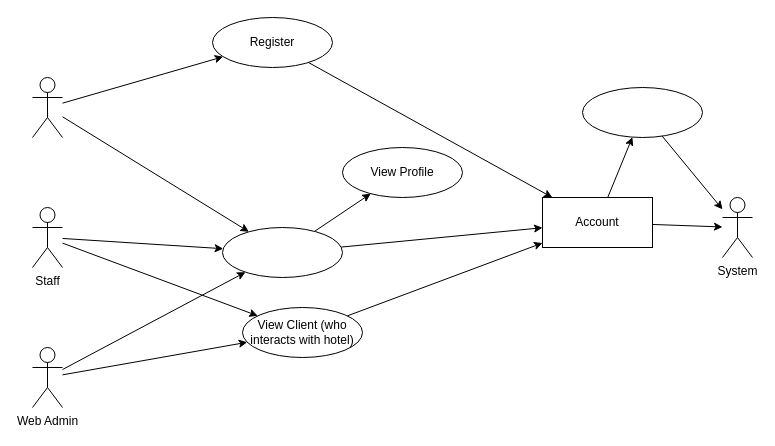
This 775x446 diagram has some shape labels left out. The box of each missing label's shape, as (x1, y1, x2, y2) in pixels:
Client: (32, 76, 62, 138)
Delete Account: (582, 86, 702, 138)
Login: (222, 226, 342, 278)
